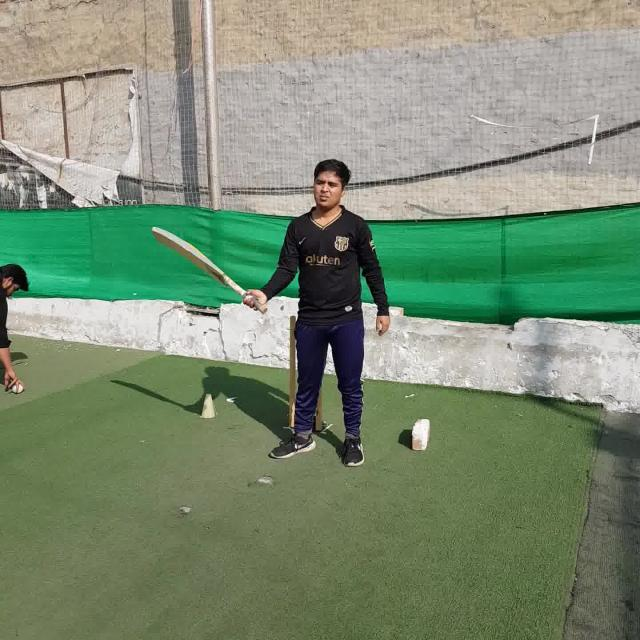ball: (13, 382, 23, 395)
bat: (152, 227, 266, 312)
